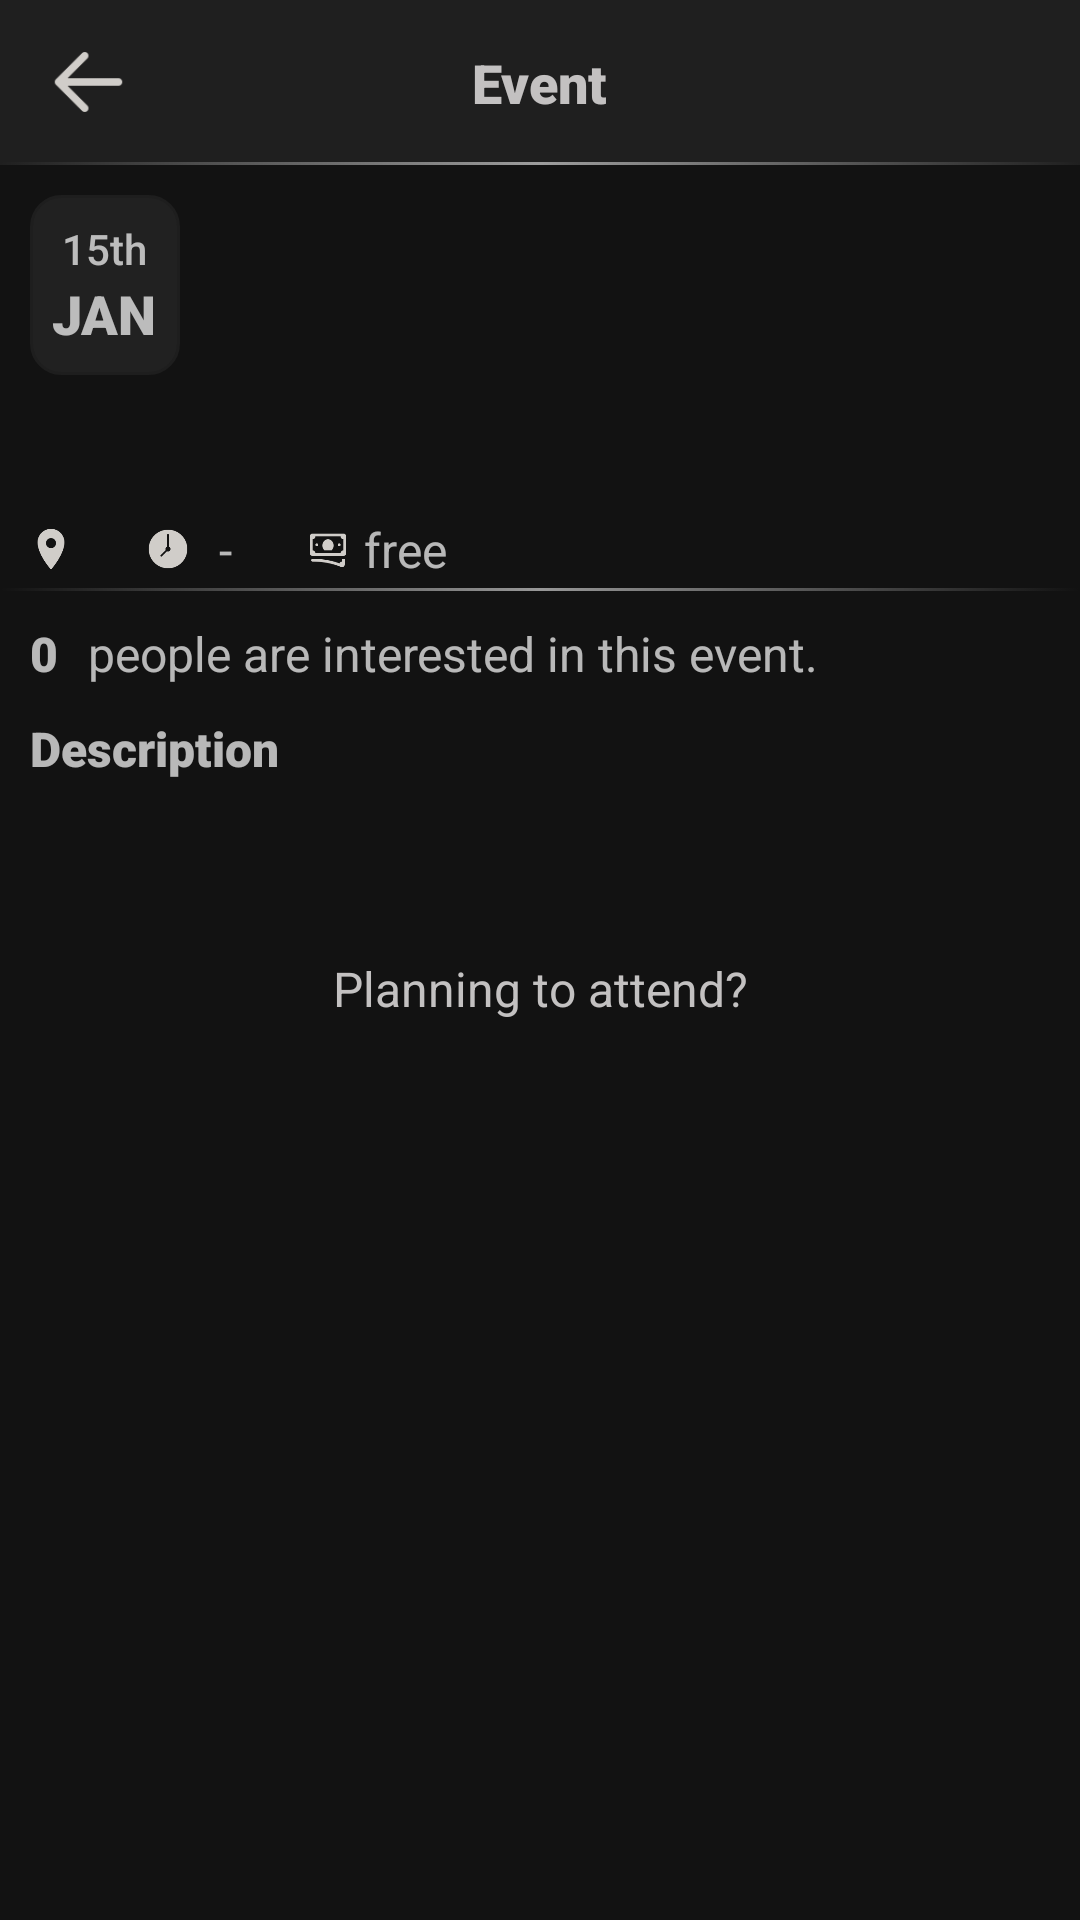

Where icons sit on this 1080 x 1920 app screen, as (x1=x1, y1=y1, x2=x2, y2=y2):
clock: (x1=149, y1=530, x2=187, y2=568)
location: (x1=37, y1=529, x2=65, y2=569)
money: (x1=310, y1=533, x2=346, y2=567)
windows back: (x1=54, y1=52, x2=123, y2=112)
